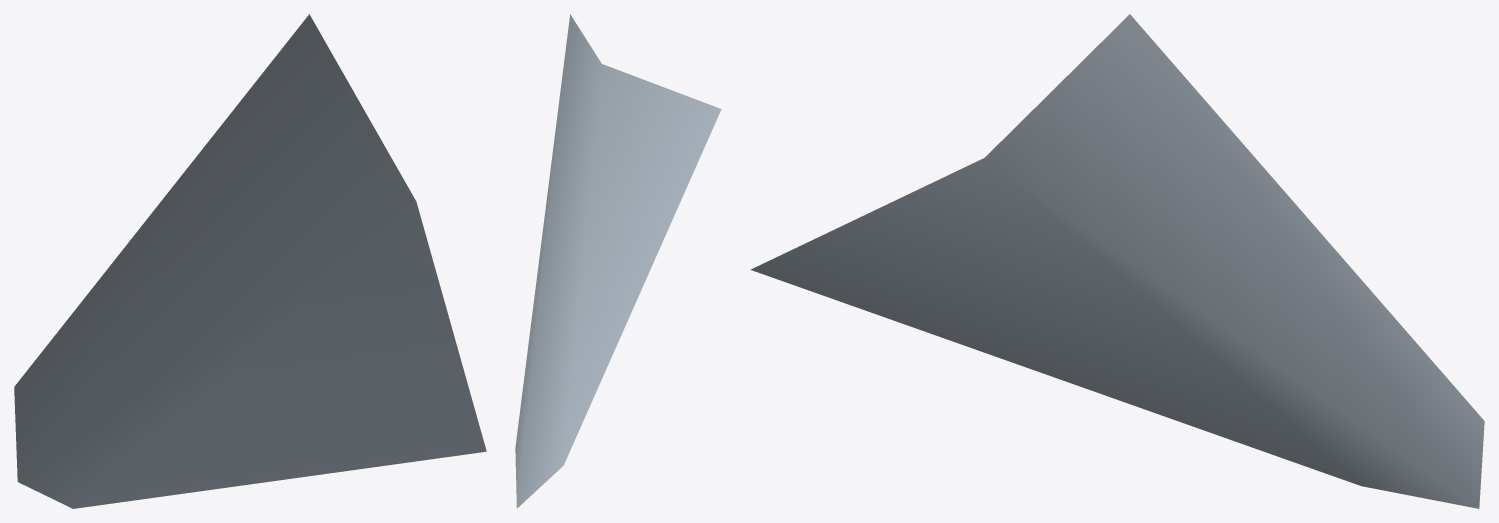
The model's file is lateral-talocalcaneal-ligament-l.glb.
The picture shows the model from 3 angles, left to right: view 1: azimuth 30°, elevation 25°; view 2: azimuth 150°, elevation 25°; view 3: azimuth 270°, elevation 25°; orthographic projection. The views are drawn at different scales.
Visible parts, largest first — view 1: Lateral talocalcaneal ligament.l; view 2: Lateral talocalcaneal ligament.l; view 3: Lateral talocalcaneal ligament.l.
Part boxes in pixels (x1,y1,x2,y2): Lateral talocalcaneal ligament.l: [14, 14, 486, 508]; Lateral talocalcaneal ligament.l: [515, 14, 721, 508]; Lateral talocalcaneal ligament.l: [750, 14, 1484, 508].
Bounding box in the file's own units: 0.00339 × 0.0131 × 0.016.
